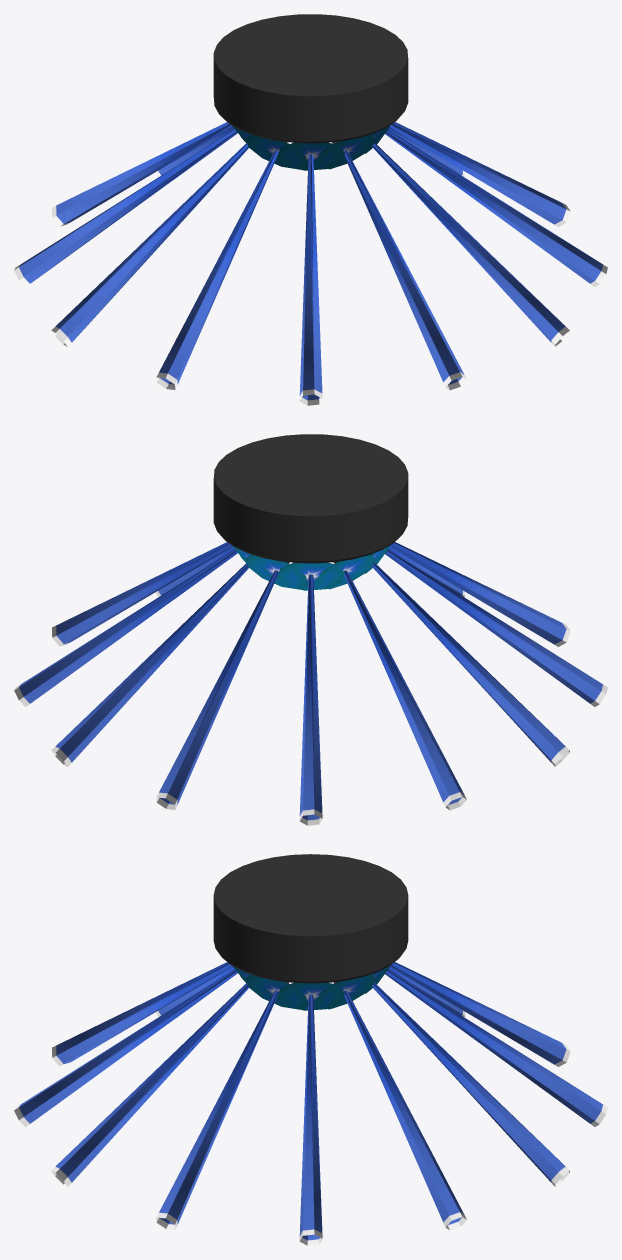
File: Monitor_Light.fbx
3 views of the same model, one above another, from view 1: azimuth 30°, elevation 25°; view 2: azimuth 150°, elevation 25°; view 3: azimuth 270°, elevation 25° (orthographic).
Parts seen in each view (by area): view 1: Cylinder001; view 2: Cylinder001; view 3: Cylinder001.
Part boxes in pixels (bbox=[...]): Cylinder001: bbox=[14, 14, 607, 405]; Cylinder001: bbox=[14, 434, 607, 825]; Cylinder001: bbox=[14, 854, 607, 1245].
Size of the model in its own units: 773 by 331 by 773.
